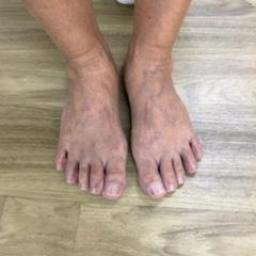Dorsal View -Both Feet-: (28, 17, 232, 213)
